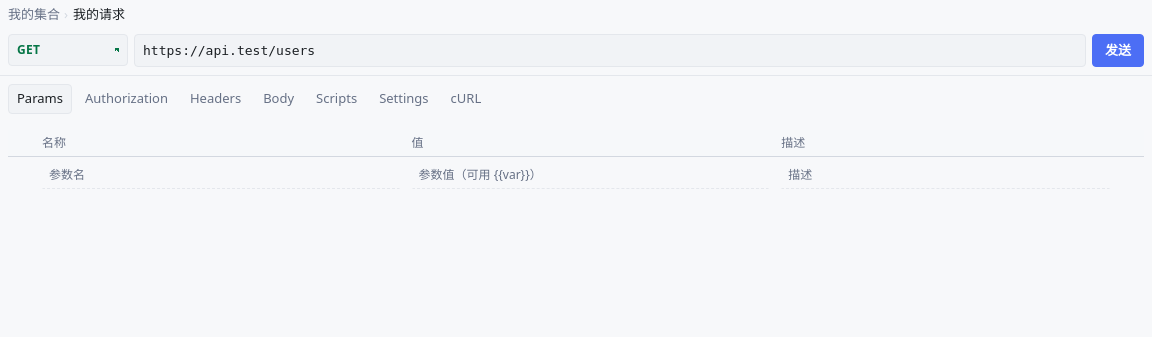
Test case: cURL 快照标签（spec: cURL 快照标签） › 切换到标签即生成可编辑的命令，切到别的标签后不再显示
This screenshot has width=1152, height=337.
Click the button "cURL": (466, 99) [442,84,490,114]
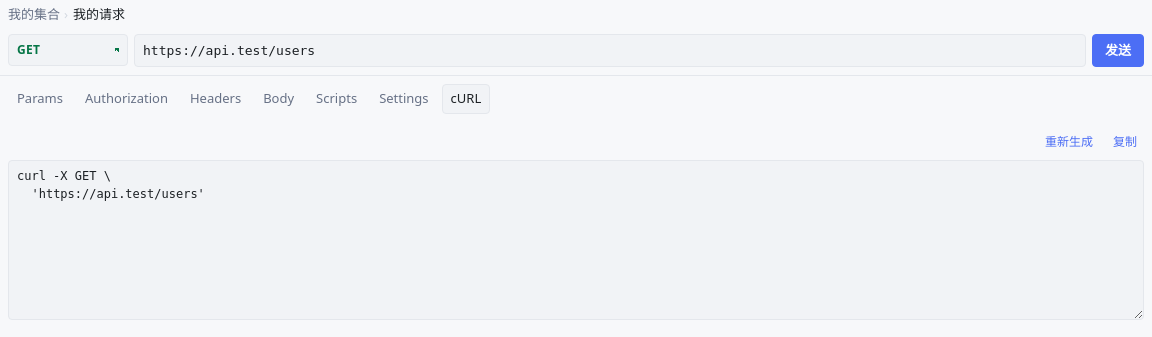
Now the text box named "curl 命令" is enabled, box [8,160,1144,320]
Click the button "Params": (40, 99) [8,84,72,114]
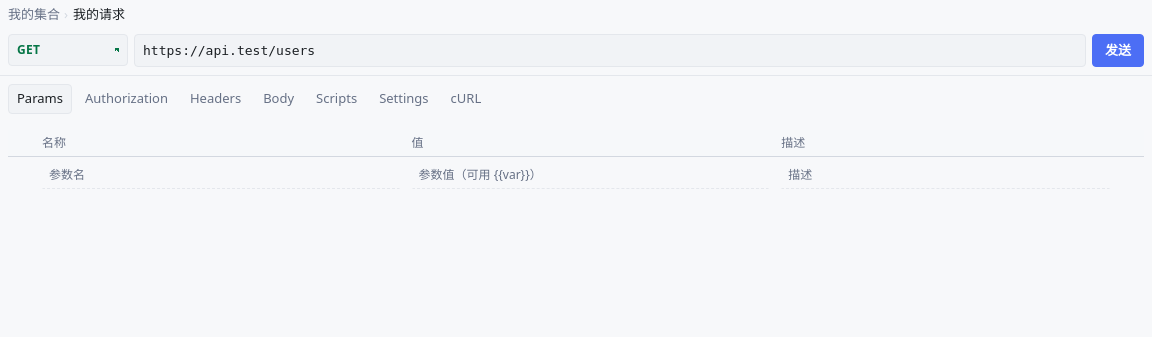
Now the element with test id "curl-block" is gone
